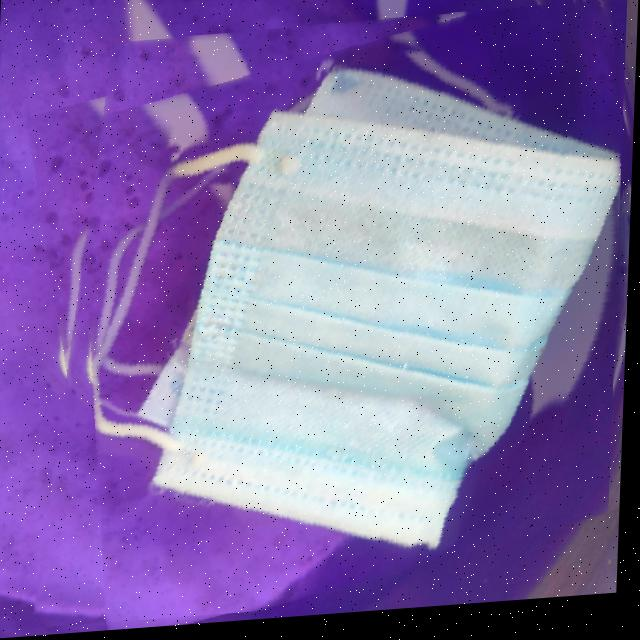mask: (35, 6, 627, 629)
